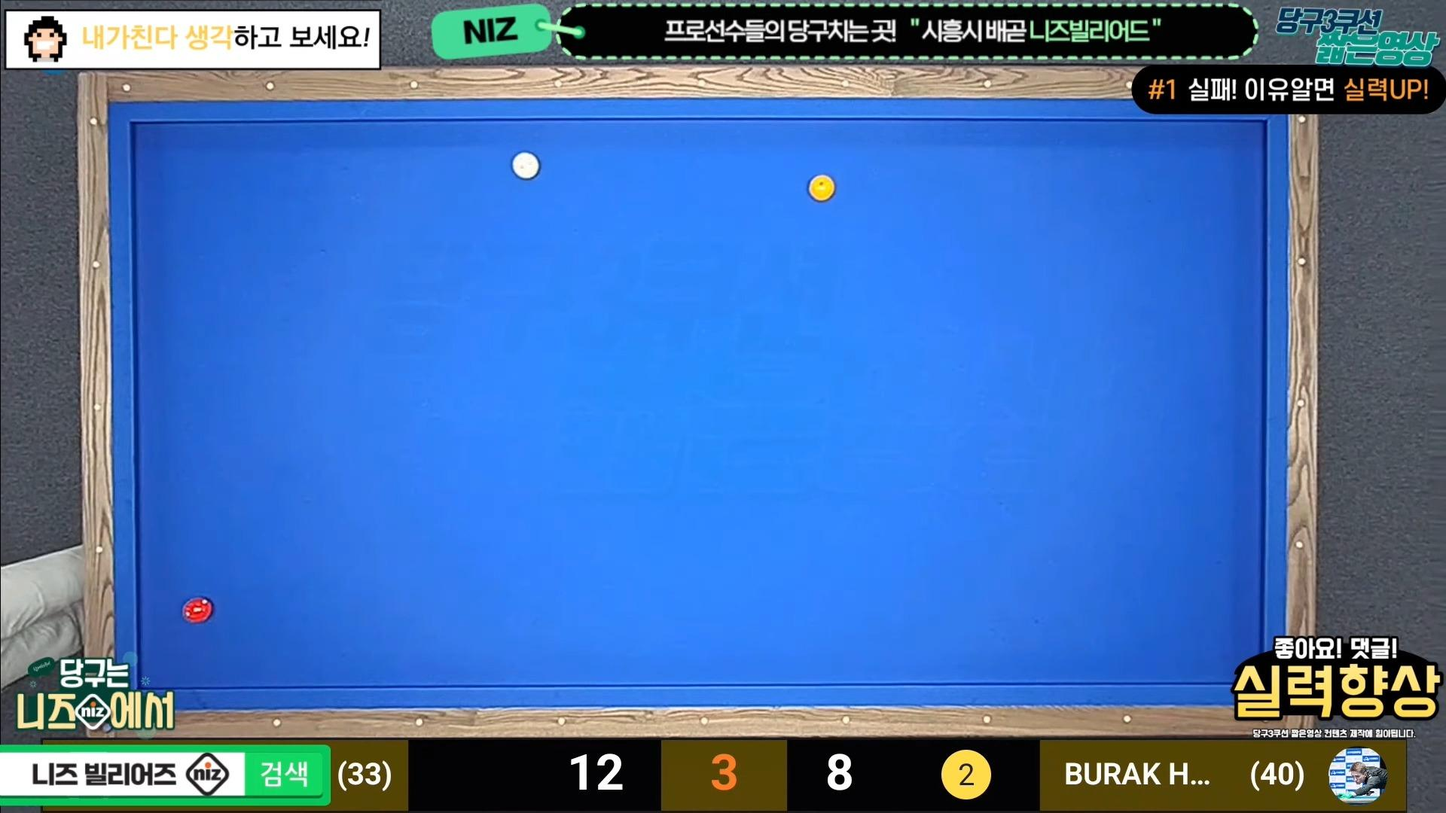-billiard-ball: (510, 150, 540, 180), (807, 173, 835, 202)
Red: (184, 597, 219, 622)
White: (508, 151, 542, 179)
Yellow: (805, 174, 838, 203)
